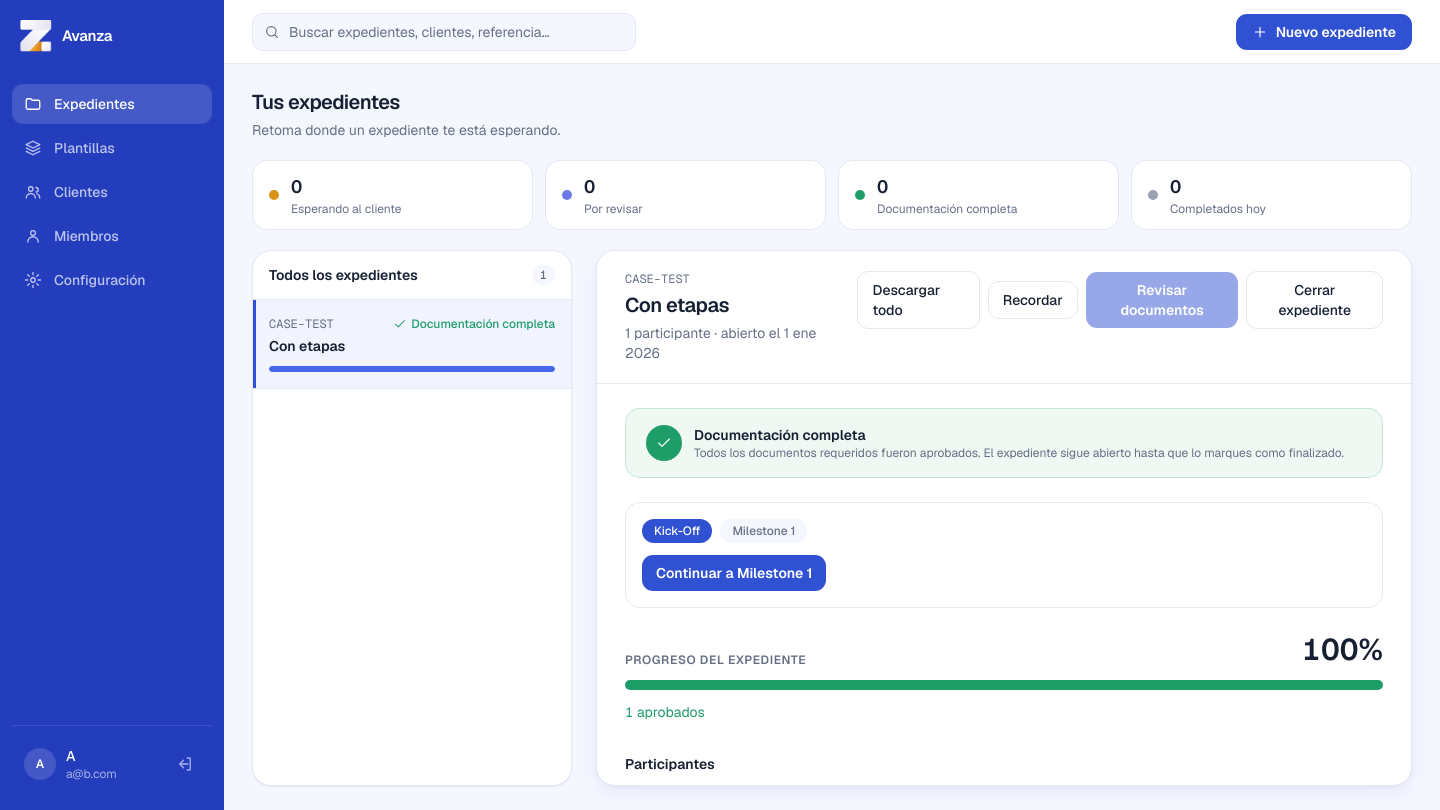
Test: Stage stepper — Continuar button gating › shows a per-participant failure message when notificationFailureCount > 0 on an otherwise-successful advance
Step 1. Click the button "Continuar a Milestone 1" → (734,573), box [642,555,826,591]
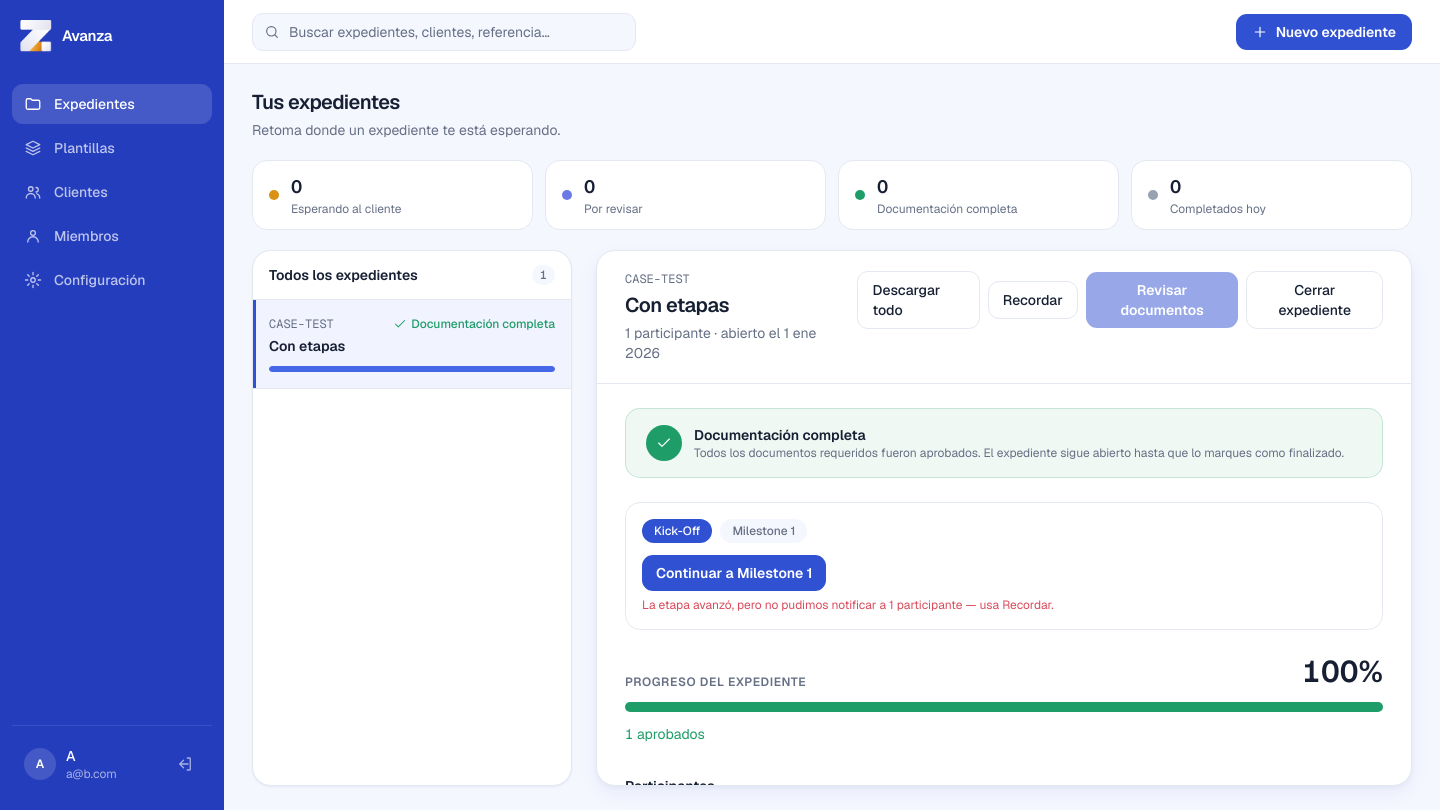
Now the text "La etapa avanzó, pero no pudimos notificar a 1 participante — usa Recordar." is shown, box [642,597,1054,613]
